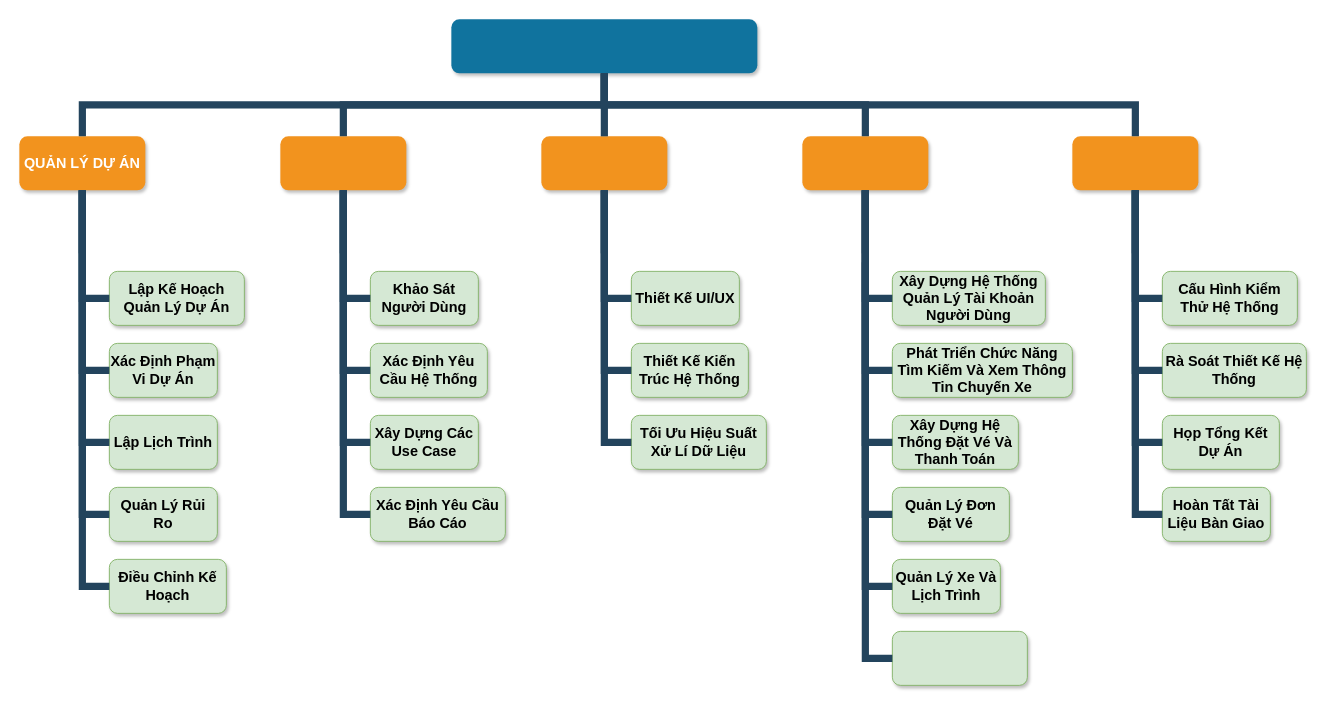
This 1328x707 diagram has some shape labels left out. Here are the shapes that lost their labels. From the top down, the centre of each, then its label:
At (604,47): "HỆ THỐNG TÌM KIẾM VÀ ĐẶT VÉ XE KHÁCH".
At (343,164): "PHÂN TÍCH YÊU CẦU".
At (604,164): "THIẾT KẾ HỆ THỐNG".
At (865,164): "PHÁT TRIỂN HỆ THỐNG".
At (1135,164): "KIỂM THỬ & TRIỂN KHAI".
At (960,659): "Quản Lý Doanh Thu".
